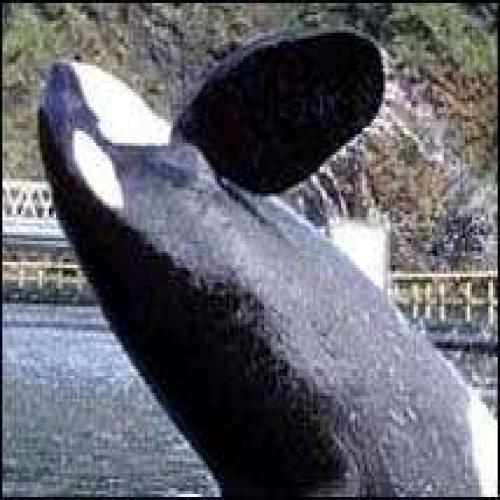killer_whale-endangered: (37, 34, 407, 422)
